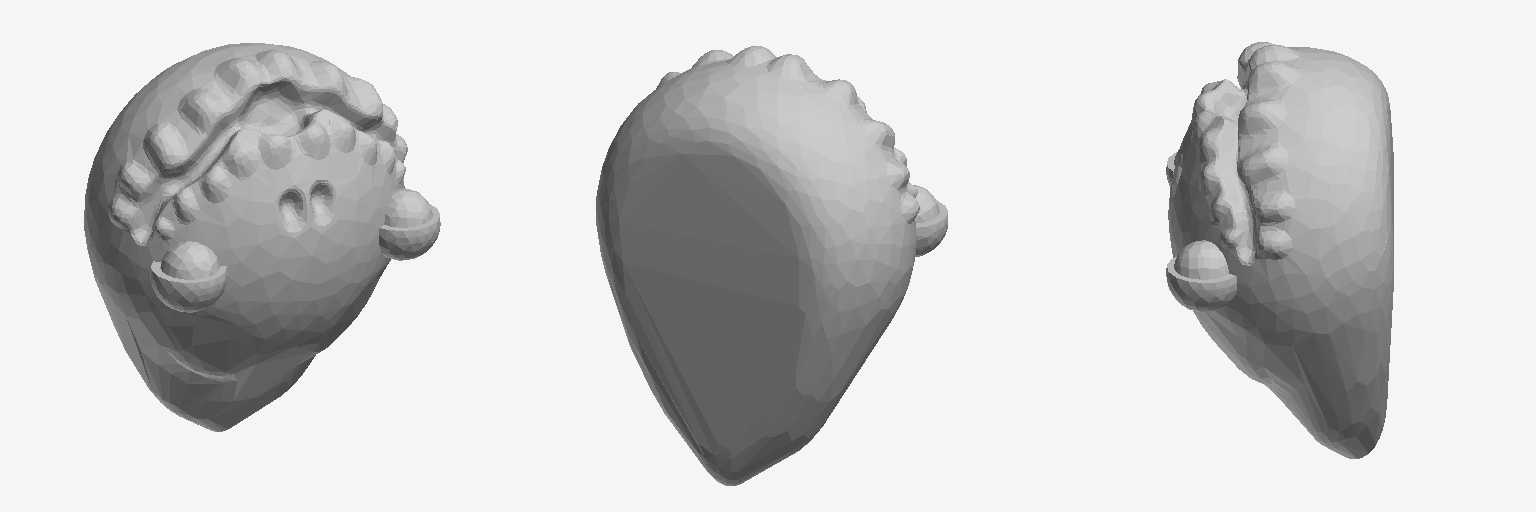
File: bucket.obj
3 renders of one model, left to right at view 1: azimuth 30°, elevation 25°; view 2: azimuth 150°, elevation 25°; view 3: azimuth 270°, elevation 25°, orthographic.
Size of the model in its own units: 2.51 by 3.3 by 1.69.